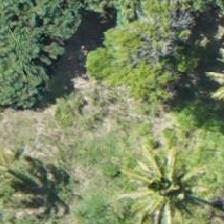coconut_tree: (127, 146, 217, 223)
